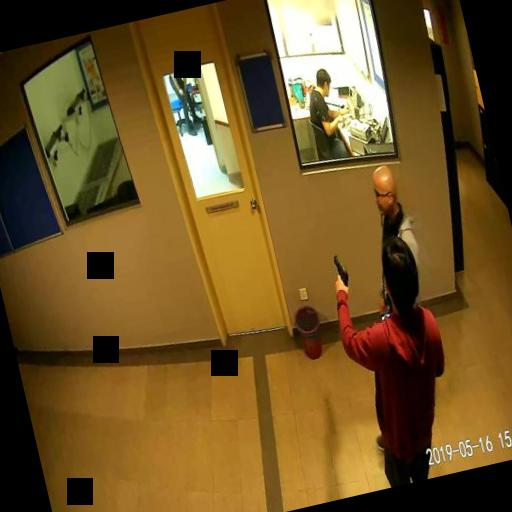Handgun: (328, 252, 350, 290)
